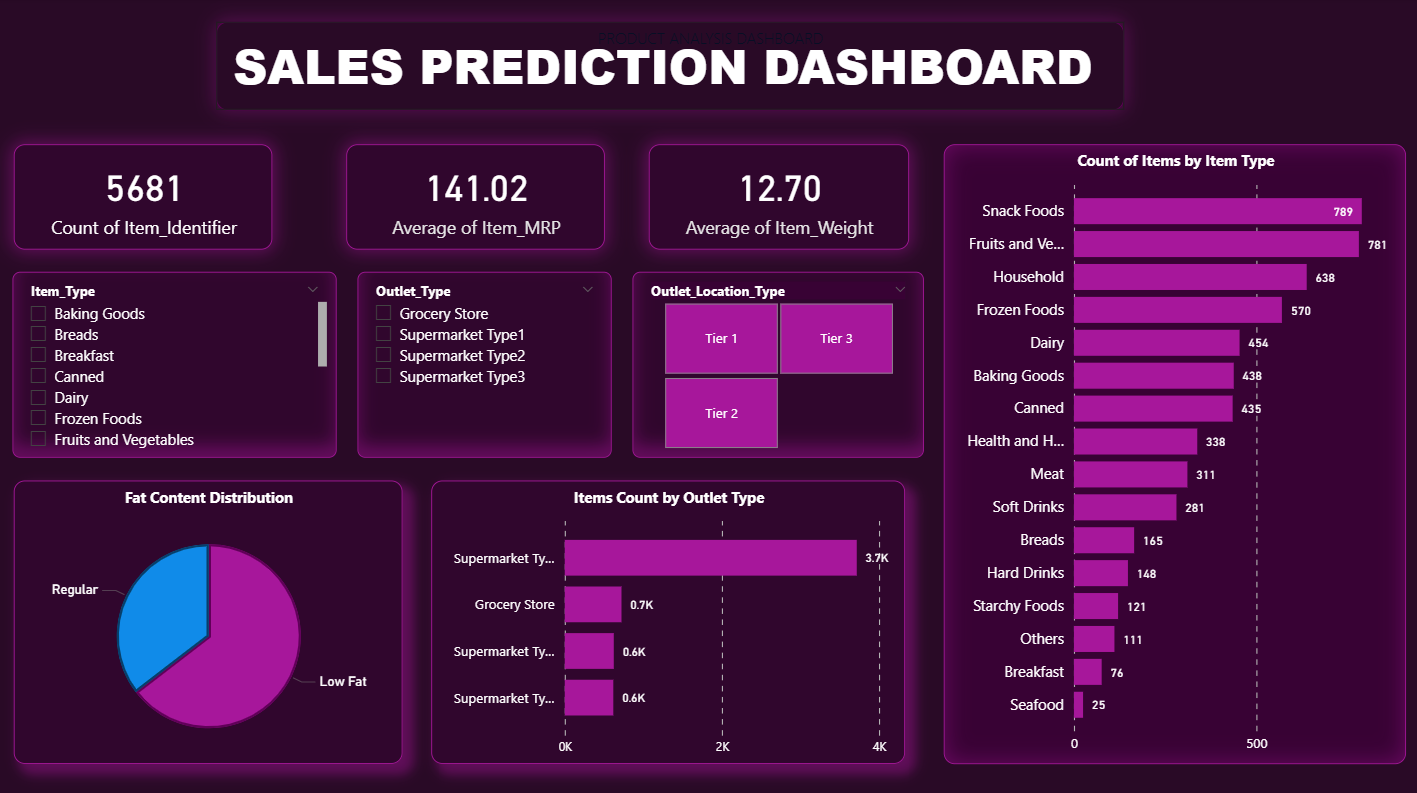

Layout of this report page (visuals, bound fields, positions):
{"tool":"powerbi","page":{"name":"Page 1","canvas":[1280,720],"ordinal":0},"visuals":[{"type":"card","fields":{"Values":["CountNonNull(Test.Item_Identifier)"]},"box":[12.3,122.1,255.2,94.7],"z":0},{"type":"card","fields":{"Values":["Avg(Test.Item_MRP)"]},"box":[285.4,122.1,264.8,94.7],"z":1000},{"type":"card","fields":{"Values":["Avg(Test.Item_Weight)"]},"box":[569.5,122.1,264.8,94.7],"z":2000},{"type":"clusteredBarChart","title":"Count of Items by Item Type","fields":{"Category":["Test.Item_Type"],"Y":["CountNonNull(Test.Item_Identifier)"]},"box":[852.1,122.1,418.5,579.1],"z":3000},{"type":"pieChart","title":"Fat Content Distribution","fields":{"Category":["Test.Item_Fat_Content"],"Y":["CountNonNull(Test.Item_Identifier)"]},"box":[12.3,425.4,351.3,285.4],"z":4000},{"type":"barChart","title":"Items Count by Outlet Type","fields":{"Y":["CountNonNull(Test.Item_Identifier)"],"Category":["Test.Outlet_Type"]},"box":[406.2,425.4,428.1,285.4],"z":5000},{"type":"slicer","fields":{"Values":["Test.Item_Type"]},"box":[12.3,227.8,292.3,188],"z":6000},{"type":"slicer","fields":{"Values":["Test.Outlet_Type"]},"box":[321.1,227.8,238.8,188],"z":7000},{"type":"slicer","fields":{"Values":["Test.Outlet_Location_Type"]},"box":[570.8,227.8,264.8,188],"z":8000},{"type":"textbox","box":[535.2,22,299.1,34.3],"z":9000},{"type":"textbox","box":[124.9,22,1030.5,86.4],"z":9001}]}

Visuals, with their boxes in screenshot pixels (x1, y1, x2, y2), scaled from the page's 1280x720 canvas onto the 1417x793 screenshot:
card - CountNonNull(Test.Item_Identifier): bbox(14, 134, 296, 239)
card - Avg(Test.Item_MRP): bbox(316, 134, 609, 239)
card - Avg(Test.Item_Weight): bbox(630, 134, 924, 239)
"Count of Items by Item Type" clusteredBarChart: bbox(943, 134, 1407, 772)
"Fat Content Distribution" pieChart: bbox(14, 469, 403, 783)
"Items Count by Outlet Type" barChart: bbox(450, 469, 924, 783)
slicer - Test.Item_Type: bbox(14, 251, 337, 458)
slicer - Test.Outlet_Type: bbox(355, 251, 620, 458)
slicer - Test.Outlet_Location_Type: bbox(632, 251, 925, 458)
textbox: bbox(592, 24, 924, 62)
textbox: bbox(138, 24, 1279, 119)
